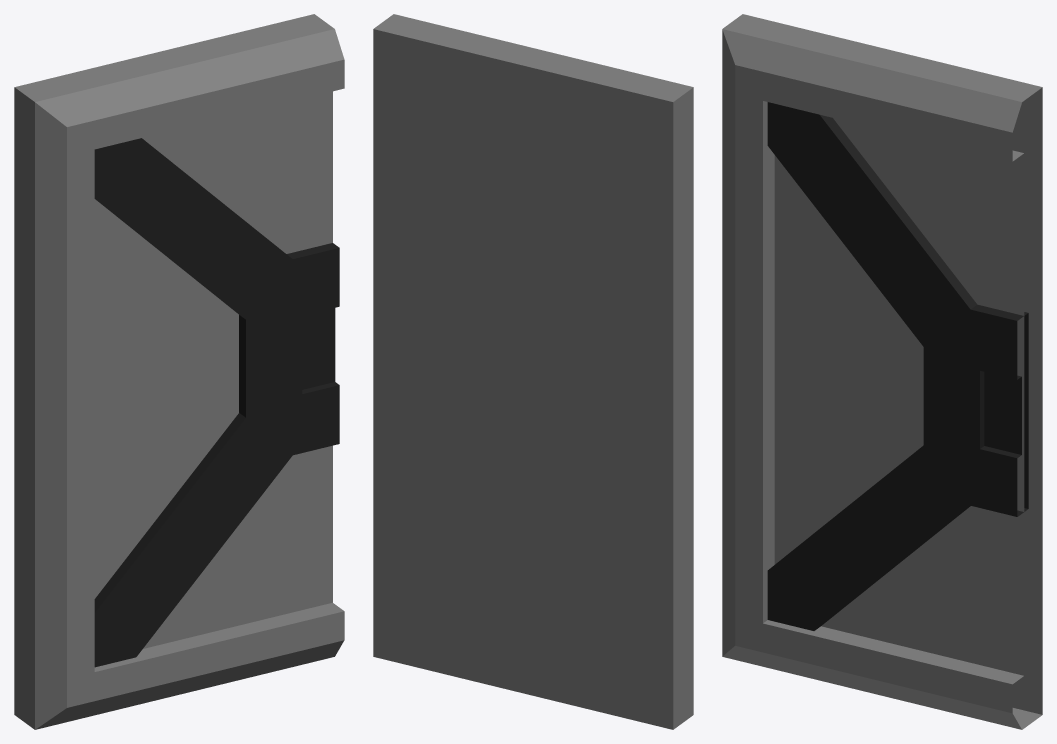
Rendered from JT_Door_L_Temp.fbx.
3 renders of one model, left to right at view 1: azimuth 30°, elevation 25°; view 2: azimuth 150°, elevation 25°; view 3: azimuth 330°, elevation 25°, orthographic.
Visible parts, largest first — view 1: JT_Door_L_Temp; view 2: JT_Door_L_Temp; view 3: JT_Door_L_Temp.
Part boxes in pixels (x1,y1,x2,y2): JT_Door_L_Temp: (14,14,344,729); JT_Door_L_Temp: (373,14,693,729); JT_Door_L_Temp: (722,14,1042,729).
Size of the model in its own units: 0.5 by 1 by 0.0868.
